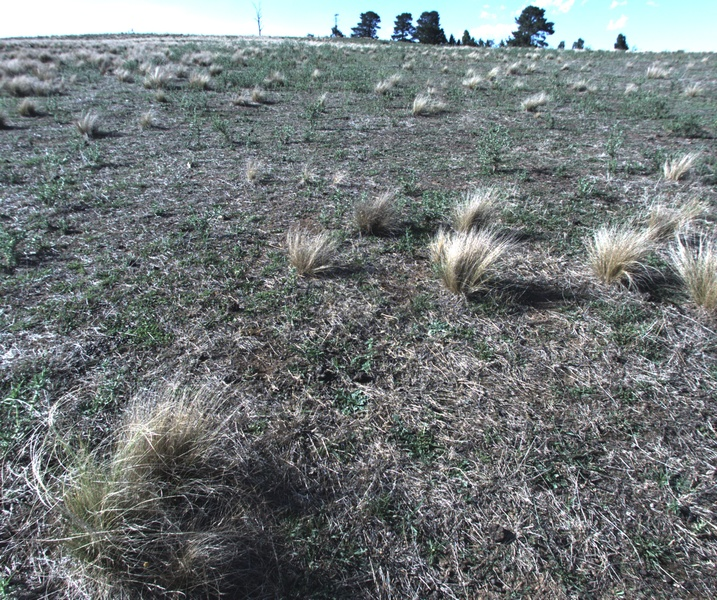st: (67, 396, 249, 584), (432, 227, 500, 299), (570, 222, 649, 283), (280, 226, 345, 272), (449, 193, 506, 240), (646, 194, 696, 247), (685, 252, 717, 324), (659, 151, 703, 191), (409, 92, 448, 120), (358, 198, 390, 229), (525, 94, 556, 119), (459, 69, 483, 92), (646, 61, 675, 80), (77, 112, 102, 134), (254, 83, 274, 110), (138, 108, 158, 132), (683, 81, 709, 99), (7, 76, 30, 96), (189, 69, 205, 96), (107, 66, 130, 84), (32, 81, 55, 98), (568, 81, 592, 97), (485, 64, 505, 83), (510, 62, 532, 79), (146, 64, 164, 83), (236, 90, 254, 109), (20, 102, 40, 119), (388, 69, 404, 89), (267, 69, 287, 84), (371, 80, 391, 93), (151, 86, 167, 102), (309, 66, 323, 80), (208, 63, 221, 78)
